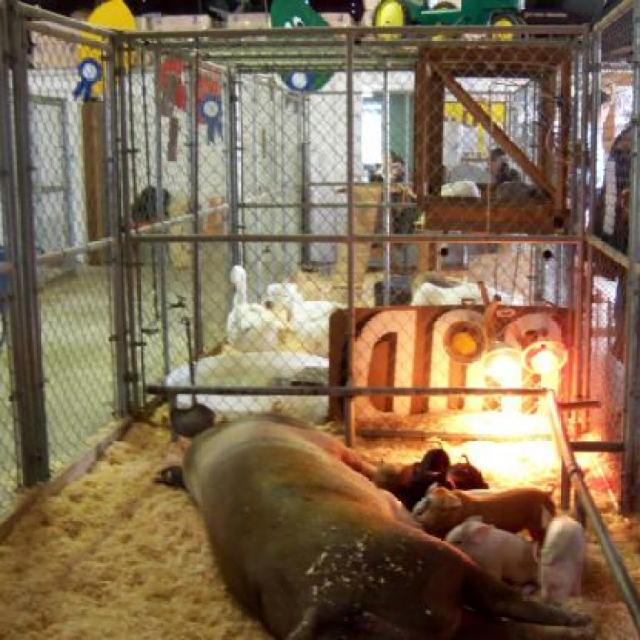pig: (151, 401, 587, 640)
